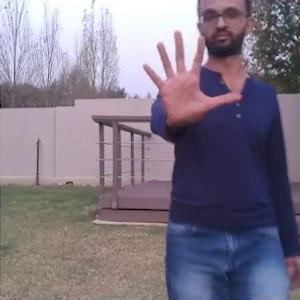follow_hand: (131, 20, 244, 127)
